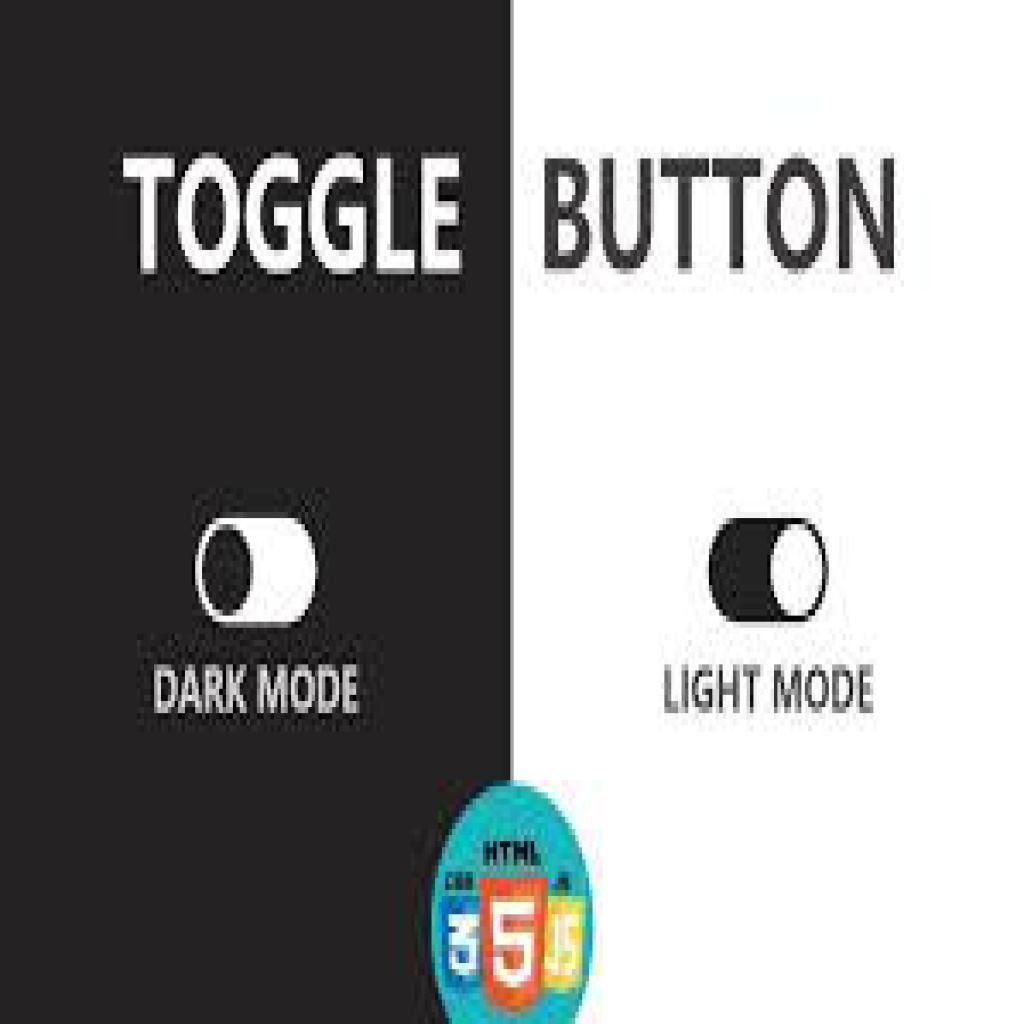switch: (198, 518, 319, 627), (708, 517, 830, 624)
